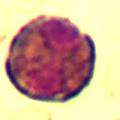eosi: (4, 14, 99, 101)
